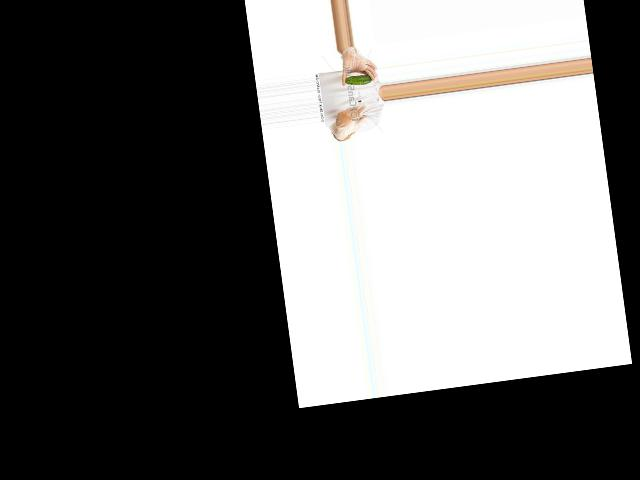cucumber: (344, 73, 372, 86)
